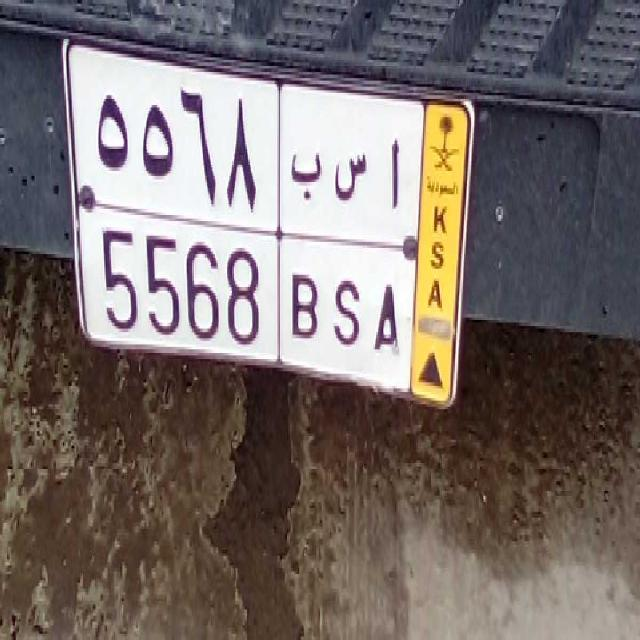license_plate: (87, 214, 407, 403)
